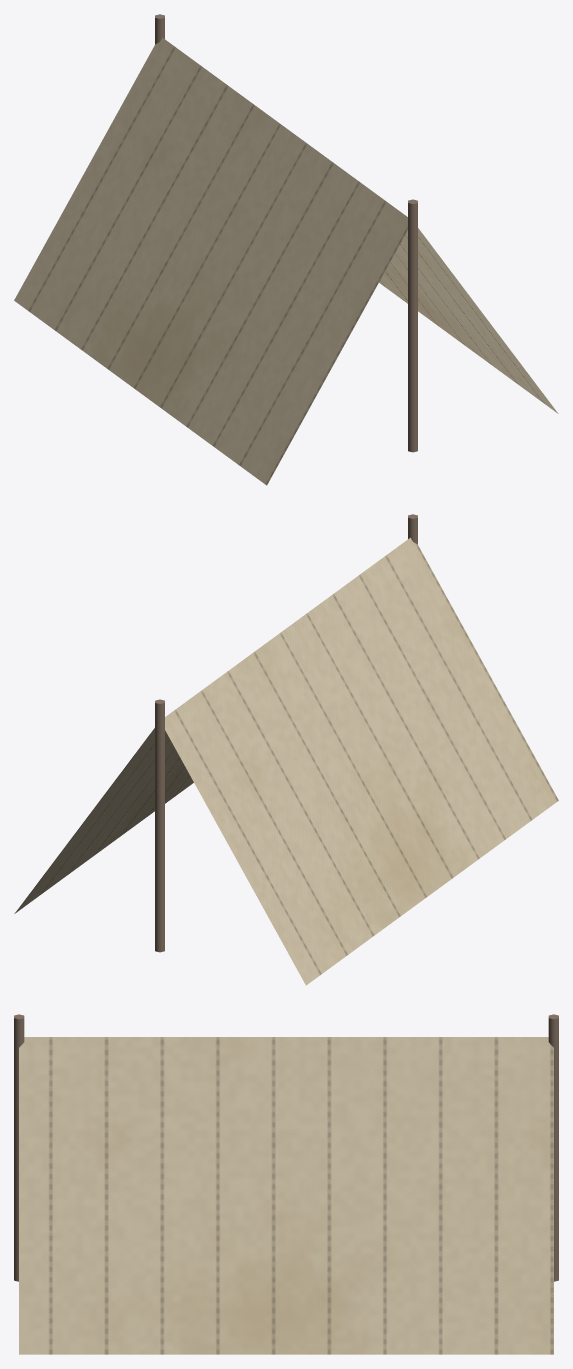
Rendered from SM_Art_Settlement_Camp_3.gltf.
3 renders of one model, top to bottom at view 1: azimuth 30°, elevation 25°; view 2: azimuth 150°, elevation 25°; view 3: azimuth 270°, elevation 25°, orthographic. The views are drawn at different scales.
Visible parts, largest first — view 1: SM_Art_Settlement_Camp_3; view 2: SM_Art_Settlement_Camp_3; view 3: SM_Art_Settlement_Camp_3.
Part boxes in pixels (left/top/right/bottom): SM_Art_Settlement_Camp_3: left=14, top=14, right=558, bottom=485; SM_Art_Settlement_Camp_3: left=14, top=514, right=558, bottom=985; SM_Art_Settlement_Camp_3: left=14, top=1014, right=558, bottom=1354.
Size of the model in its own units: 2.4 by 1.95 by 3.67.
